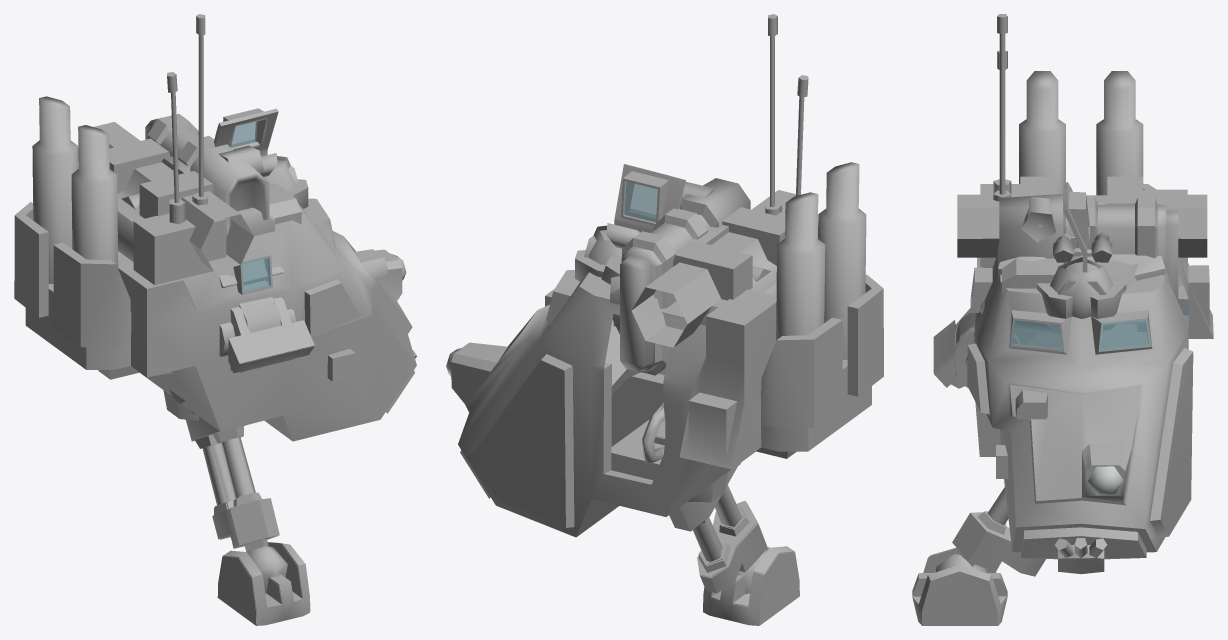
Rendered from sentinel_flamer_rocket-05g09vm.glb.
The picture shows the model from 3 angles, left to right: view 1: azimuth 30°, elevation 25°; view 2: azimuth 150°, elevation 25°; view 3: azimuth 270°, elevation 25°; orthographic projection. The views are drawn at different scales.
Parts seen in each view (by area): view 1: turret, turret_interior, body, gun1, legr3, legl2, legl3, legl4, legr4, door, legl1, gun_rot_melta (+1 smaller); view 2: turret, turret_interior, body, gun1, legr3, legr4, door, legl3, legl4; view 3: turret, turret_interior, body, gun1, legl4, legl3, gun_rot_melta, door, legr2, legl2, flamer1, legl1 (+1 smaller).
Part boxes in pixels (x1,y1,x2,y2): turret: [14, 14, 417, 441]; turret_interior: [14, 97, 415, 440]; body: [78, 122, 308, 271]; gun1: [145, 113, 269, 281]; legr3: [191, 425, 278, 593]; legl2: [170, 297, 313, 413]; legl3: [186, 416, 287, 577]; legl4: [223, 542, 310, 625]; legr4: [217, 543, 309, 625]; door: [213, 108, 278, 156]; legl1: [219, 259, 282, 332]; gun_rot_melta: [269, 183, 301, 224]; turret: [446, 14, 883, 537]; turret_interior: [451, 163, 883, 537]; body: [575, 190, 818, 347]; gun1: [620, 178, 750, 375]; legr3: [642, 419, 767, 593]; legr4: [703, 552, 799, 625]; door: [613, 164, 685, 326]; legl3: [642, 408, 768, 577]; legl4: [703, 546, 799, 607]; turret: [967, 14, 1213, 574]; turret_interior: [967, 71, 1213, 558]; body: [957, 176, 1207, 329]; gun1: [999, 193, 1178, 334]; legl4: [912, 547, 1006, 625]; legl3: [936, 487, 1045, 573]; gun_rot_melta: [1002, 258, 1063, 293]; door: [1063, 182, 1089, 272]; legr2: [934, 321, 1029, 388]; legl2: [933, 308, 1031, 373]; flamer1: [1058, 255, 1106, 294]; legl1: [956, 248, 1092, 343].
Size of the model in its own units: 46.98 by 70.9 by 33.56.
